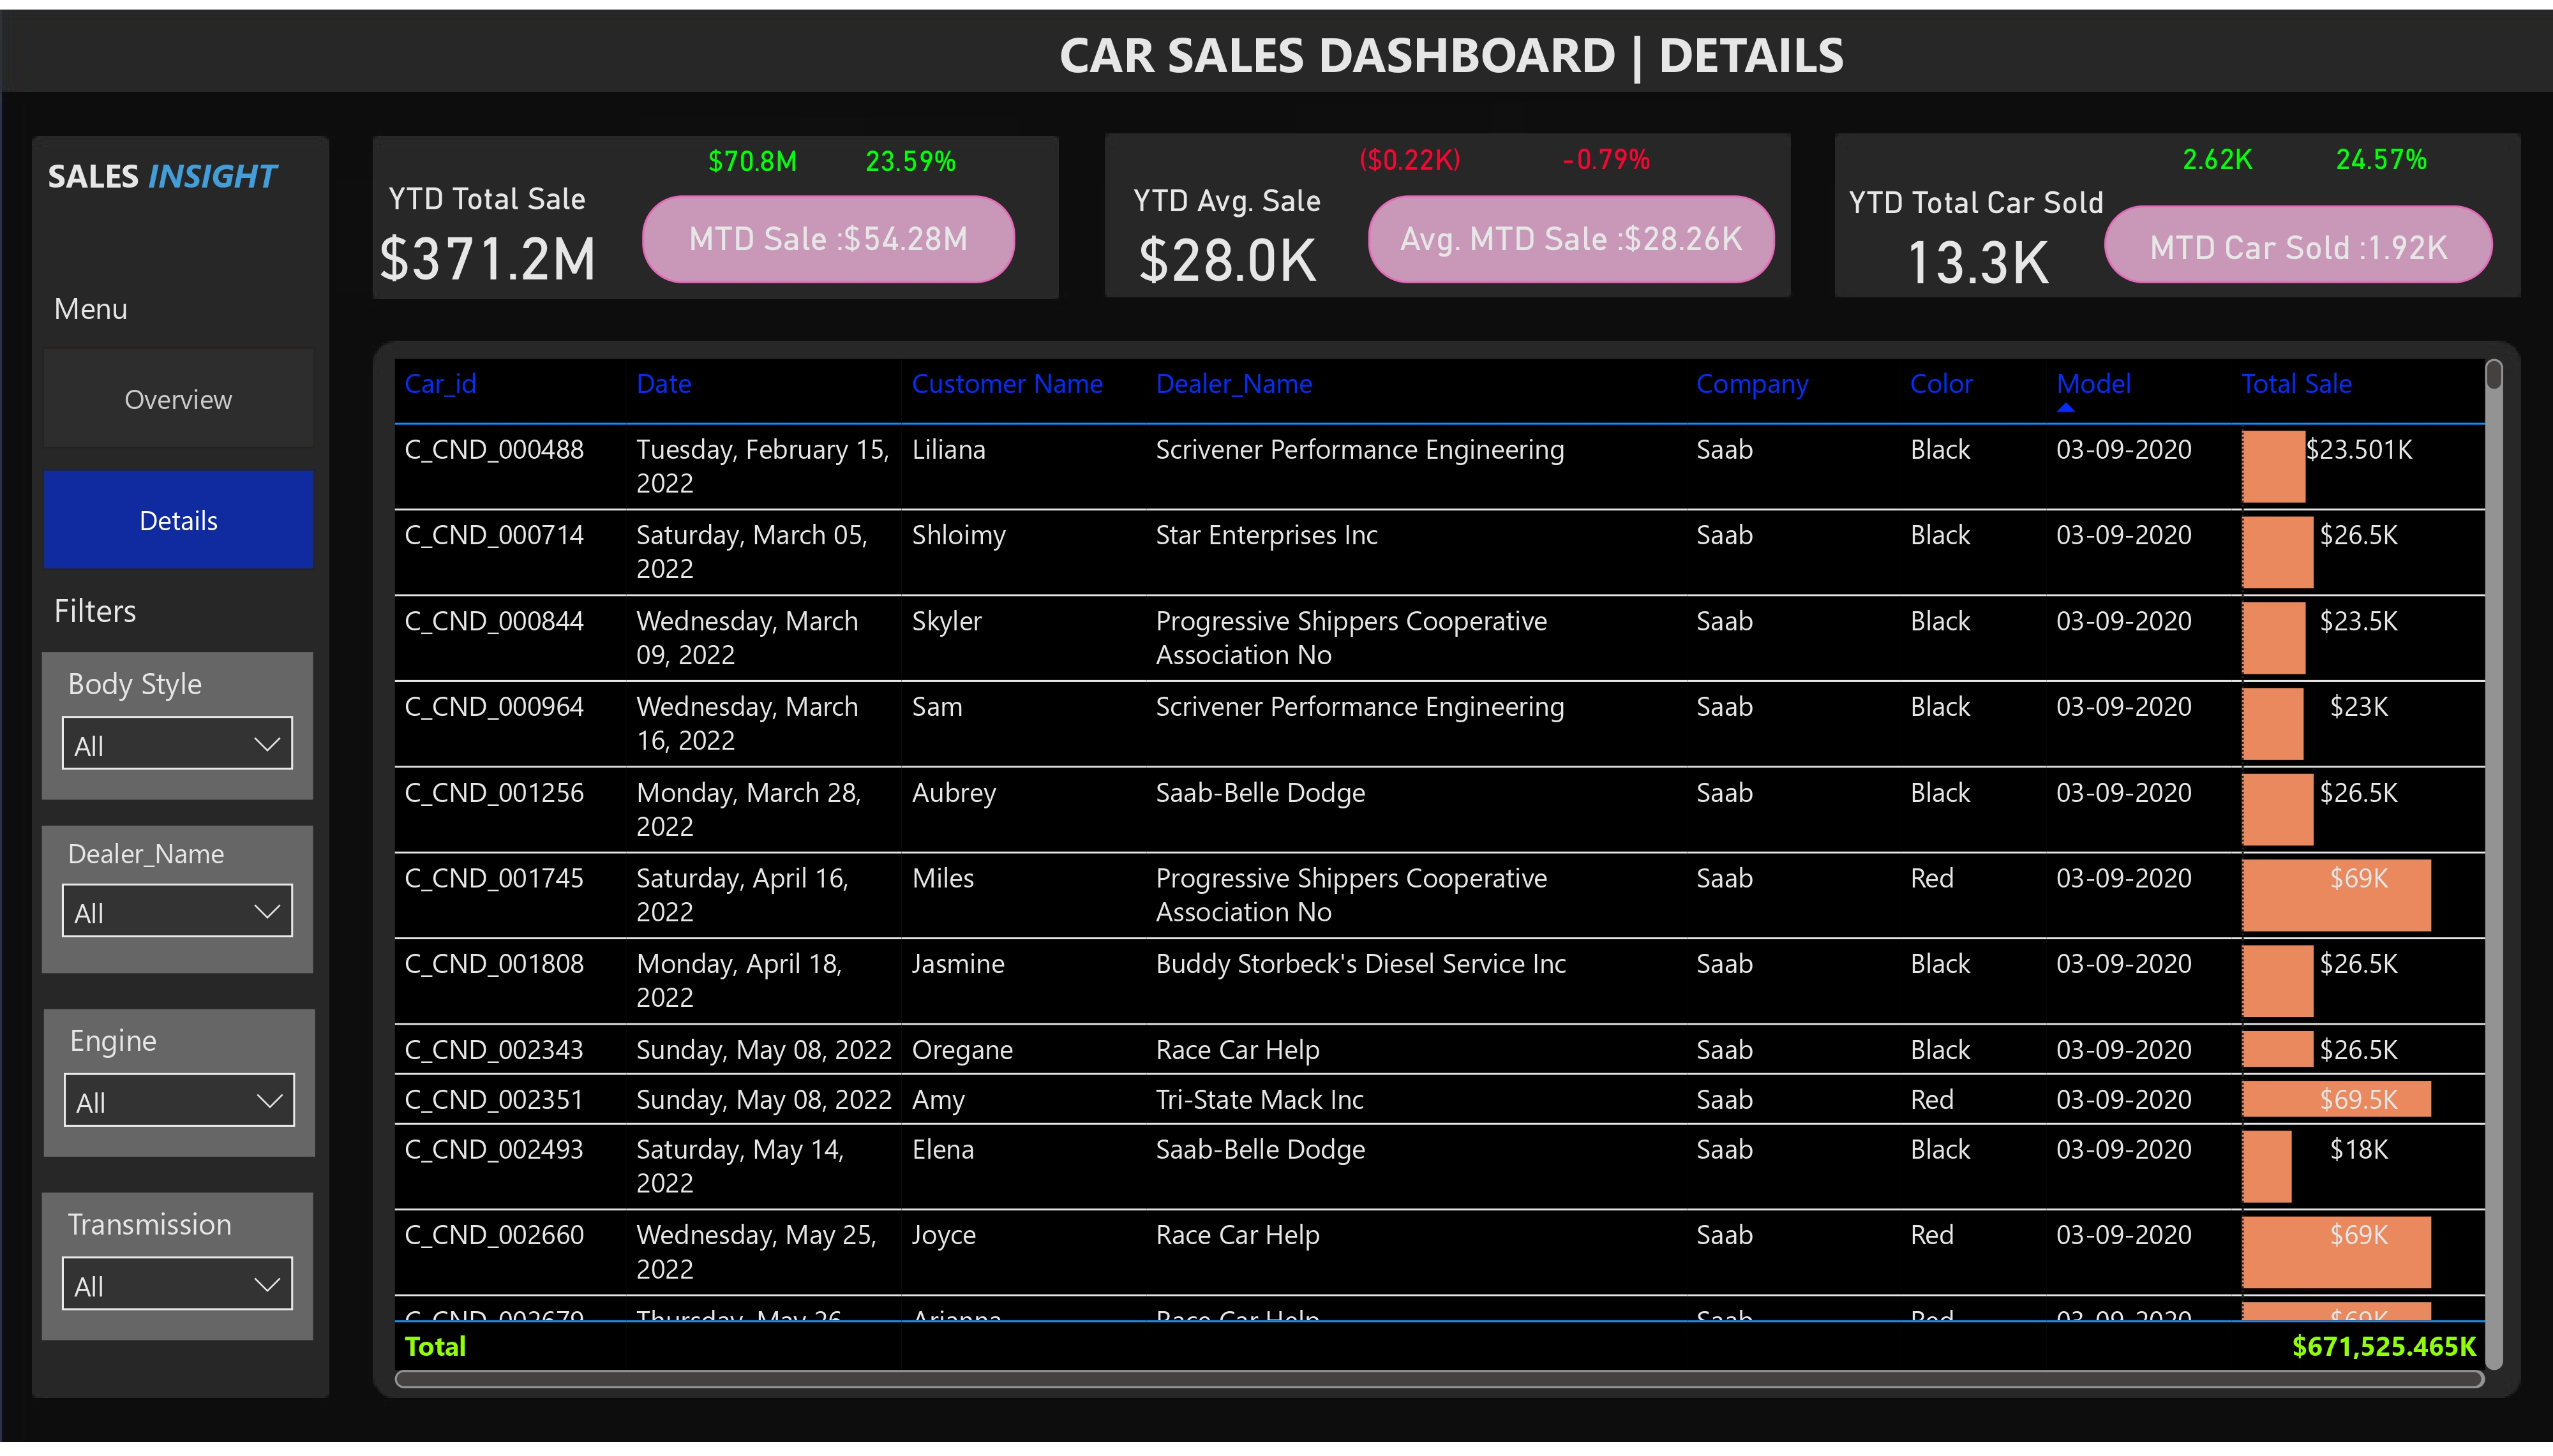

Layout of this report page (visuals, bound fields, positions):
{"tool":"powerbi","page":{"name":"Details","canvas":[1280,720],"ordinal":1},"visuals":[{"type":"card","title":"YTD Total Sale","fields":{"Values":["Calender Date.Price ($) YTD"]},"box":[168.8,85.1,150.9,56.3],"z":0},{"type":"card","fields":{"Values":["Calender Date.Sales Difference"]},"box":[320.7,54.2,112.6,45.6],"z":1000},{"type":"card","fields":{"Values":["Calender Date.YTD  Total Sale YoY%"]},"box":[400.5,54.2,111.2,45.6],"z":2000},{"type":"card","fields":{"Values":["Calender Date.MTD KPI"]},"box":[322.1,92.7,186.7,44.2],"z":3000},{"type":"card","title":"YTD Avg. Sale","fields":{"Values":["Calender Date.YTD Avg. Sale"]},"box":[551.6,85.5,126.9,55.6],"z":4000},{"type":"card","fields":{"Values":["Calender Date.Avg. Price Diff."]},"box":[650,47,114,58.4],"z":5000},{"type":"card","fields":{"Values":["Calender Date.YOY Avg. Price Growth"]},"box":[747.8,46.2,114.4,59.4],"z":6000},{"type":"card","fields":{"Values":["Calender Date.Avg. MTD Sale"]},"box":[685.6,92.8,203.6,44],"z":7000},{"type":"card","title":"YTD Total Car Sold","fields":{"Values":["Calender Date.YTD No. Of Car Sold"]},"box":[916.1,86.5,149.7,56.3],"z":8000},{"type":"card","fields":{"Values":["Calender Date.YTD No. Of Car Sold minus PYTD Car Sold"]},"box":[1055.3,61.9,114,27.7],"z":9000},{"type":"card","fields":{"Values":["Calender Date.YTD No. Of Car Sold % difference from PYTD Car Sold"]},"box":[1136.7,61.9,114,27.7],"z":10000},{"type":"card","fields":{"Values":["Calender Date.MTD Car Sold"]},"box":[1055.3,97.7,195.4,39.1],"z":11000},{"type":"slicer","fields":{"Values":["car_data.Body Style"]},"box":[20.6,322.5,135.8,74.1],"z":12000},{"type":"slicer","fields":{"Values":["car_data.Dealer_Name"]},"box":[20.6,408.9,135.8,74.1],"z":13000},{"type":"slicer","fields":{"Values":["car_data.Engine"]},"box":[22,500.9,135.8,74.1],"z":14000},{"type":"slicer","fields":{"Values":["car_data.Transmission"]},"box":[20.6,592.8,135.8,74.1],"z":15000},{"type":"textbox","box":[22,285.4,116.6,34.3],"z":16000},{"type":"textbox","box":[494,0,467.9,48],"z":17000},{"type":"tableEx","fields":{"Values":["car_data.Car_id","car_data.Date","car_data.Customer Name","car_data.Dealer_Name","car_data.Company","car_data.Color","car_data.Model","car_data.Price ($)"]},"box":[192.1,170.2,1067.6,525.6],"z":18000},{"type":"pageNavigator","box":[20.6,168.8,137.2,112.5],"z":19000},{"type":"textbox","box":[22,134.5,116.6,37],"z":20000},{"type":"textbox","box":[19.2,67.2,138.6,42.5],"z":21000}]}

Visuals, with their boxes in screenshot pixels (x1, y1, x2, y2), scaled from the page's 1280x720 canvas onto the 2553x1456 screenshot:
"YTD Total Sale" card: box=[337, 172, 638, 286]
card - Calender Date.Sales Difference: box=[640, 110, 864, 202]
card - Calender Date.YTD  Total Sale YoY%: box=[799, 110, 1021, 202]
card - Calender Date.MTD KPI: box=[643, 188, 1015, 277]
"YTD Avg. Sale" card: box=[1100, 173, 1353, 285]
card - Calender Date.Avg. Price Diff.: box=[1296, 95, 1524, 213]
card - Calender Date.YOY Avg. Price Growth: box=[1492, 93, 1719, 214]
card - Calender Date.Avg. MTD Sale: box=[1367, 188, 1774, 277]
"YTD Total Car Sold" card: box=[1827, 175, 2126, 289]
card - Calender Date.YTD No. Of Car Sold minus PYTD Car Sold: box=[2105, 125, 2332, 181]
card - Calender Date.YTD No. Of Car Sold % difference from PYTD Car Sold: box=[2267, 125, 2494, 181]
card - Calender Date.MTD Car Sold: box=[2105, 198, 2494, 277]
slicer - car_data.Body Style: box=[41, 652, 312, 802]
slicer - car_data.Dealer_Name: box=[41, 827, 312, 977]
slicer - car_data.Engine: box=[44, 1013, 315, 1163]
slicer - car_data.Transmission: box=[41, 1199, 312, 1349]
textbox: box=[44, 577, 276, 646]
textbox: box=[985, 0, 1919, 97]
tableEx - car_data.Car_id x car_data.Date: box=[383, 344, 2513, 1407]
pageNavigator: box=[41, 341, 315, 569]
textbox: box=[44, 272, 276, 347]
textbox: box=[38, 136, 315, 222]
